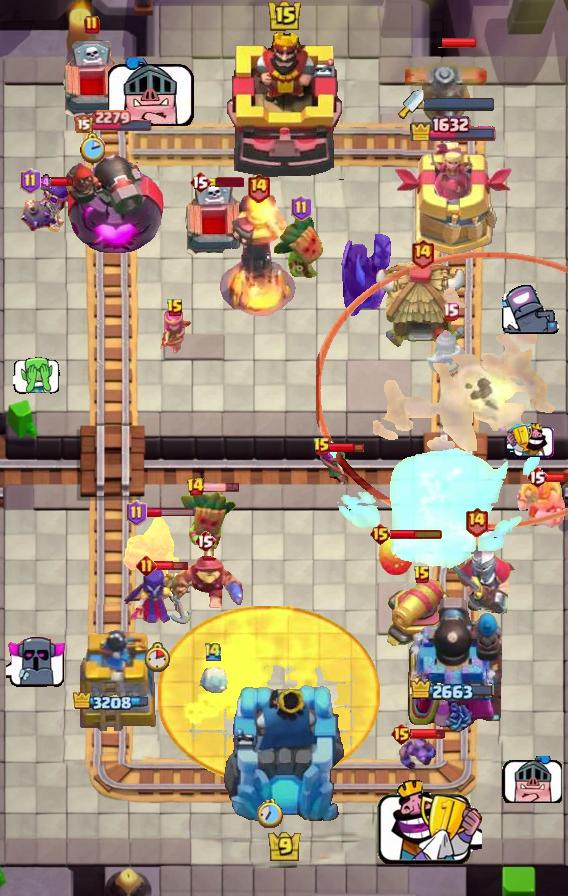axe: (123, 565, 191, 627)
bar: (395, 142, 514, 256)
bat: (191, 667, 235, 701)
cannon: (313, 444, 351, 490), (158, 309, 192, 355)
dark-prince: (405, 41, 489, 129)
electro-dragon: (218, 191, 298, 319)
electro-spirit: (39, 174, 51, 192)
elixir: (79, 133, 105, 164), (144, 642, 170, 672), (257, 799, 283, 828)
elixir-golem-mid: (57, 39, 127, 125), (179, 178, 249, 264)
emote: (389, 528, 442, 540), (145, 507, 196, 518), (154, 559, 190, 572), (38, 176, 75, 188), (442, 37, 478, 49), (328, 441, 364, 453), (410, 728, 446, 740), (203, 483, 241, 494), (208, 177, 244, 187), (546, 472, 568, 483)
fireball: (166, 554, 244, 628)
goblin-ball: (18, 179, 72, 235)
goblin-barrel: (178, 488, 238, 564), (272, 210, 330, 280)
goblin-giant: (514, 477, 568, 529)
hog: (376, 533, 416, 577)
inferno-dragon: (335, 230, 395, 324)
king-tower: (224, 29, 344, 181), (221, 682, 347, 826)
king-tower-bar: (424, 97, 496, 111)
mega-knight: (326, 427, 543, 573)
phoenix-egg: (158, 606, 382, 784)
prince: (375, 260, 469, 350)
princess: (425, 319, 475, 377)
queen-tower: (64, 621, 164, 731)
royal-delivery: (396, 733, 438, 773)
royal-ghost: (316, 252, 568, 529)
royal-recruit: (386, 577, 458, 651)
selected: (410, 113, 499, 141), (410, 678, 496, 704), (74, 109, 154, 133), (73, 692, 155, 714)
skeleton: (376, 780, 482, 865), (108, 58, 197, 126), (5, 634, 66, 688), (503, 284, 562, 336), (502, 757, 563, 804), (12, 356, 59, 394), (507, 421, 555, 458)
tesla-evolution: (121, 516, 181, 582)
text: (245, 172, 270, 203), (410, 238, 435, 269), (463, 506, 488, 537), (368, 522, 391, 546), (391, 722, 414, 746), (20, 168, 41, 194), (291, 195, 312, 221), (126, 500, 147, 526), (189, 170, 211, 194), (526, 465, 548, 489), (194, 529, 216, 553), (135, 555, 156, 576), (203, 642, 223, 663), (186, 477, 205, 497), (166, 298, 184, 318), (313, 437, 331, 457), (413, 565, 431, 585), (441, 302, 458, 321), (84, 15, 100, 35)
tower-bar: (404, 593, 502, 731), (64, 138, 164, 256)
wall-breaker-evolution: (434, 528, 518, 618)
